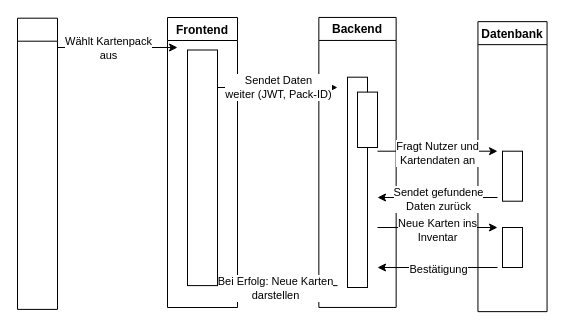
The diagram is 565 pixels wide and 330 high, and some of its shapes have lost their labels. The shapes that lost their labels are listed below. From the top down, each one's centre as x and y in pixels, then its label:
the point at 367,119: Wählt zufällig Karten aus
the point at 37,163: Nutzer
